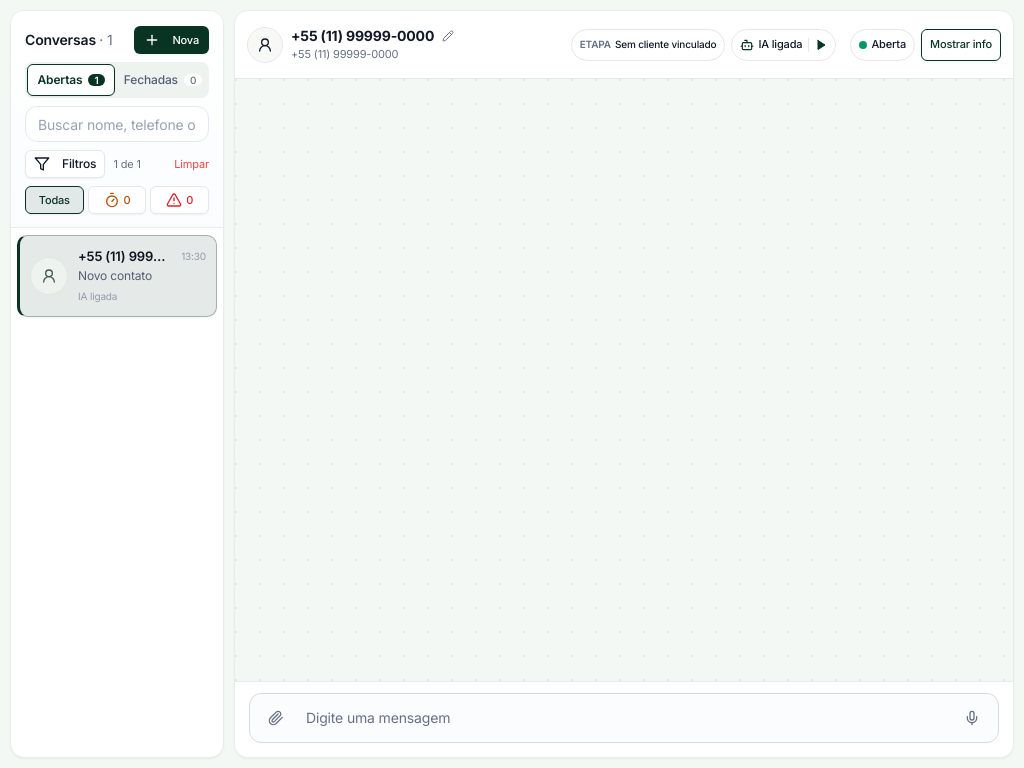
abre as três ações essenciais pelos controles do Inbox
Click the button "Nova".
click(172, 40)  # box [134,26,209,54]
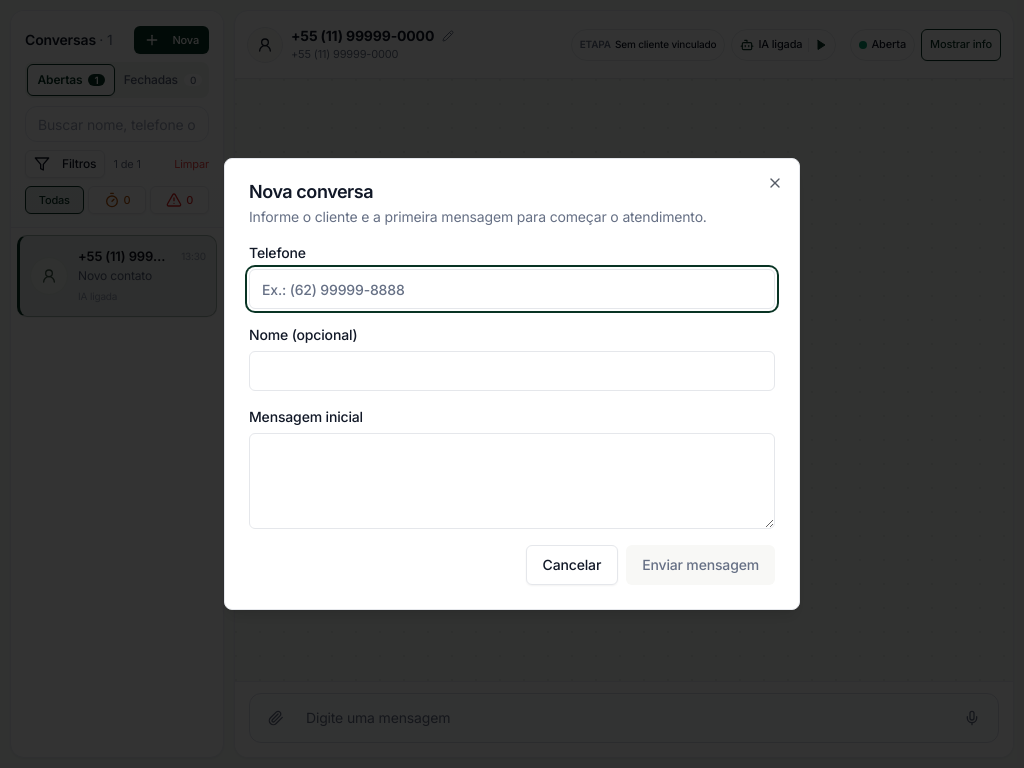
Check: the dialog "Nova conversa" is shown, box [224,158,800,610]
Click the button "Cancelar".
click(572, 565)  # box [526,545,618,585]
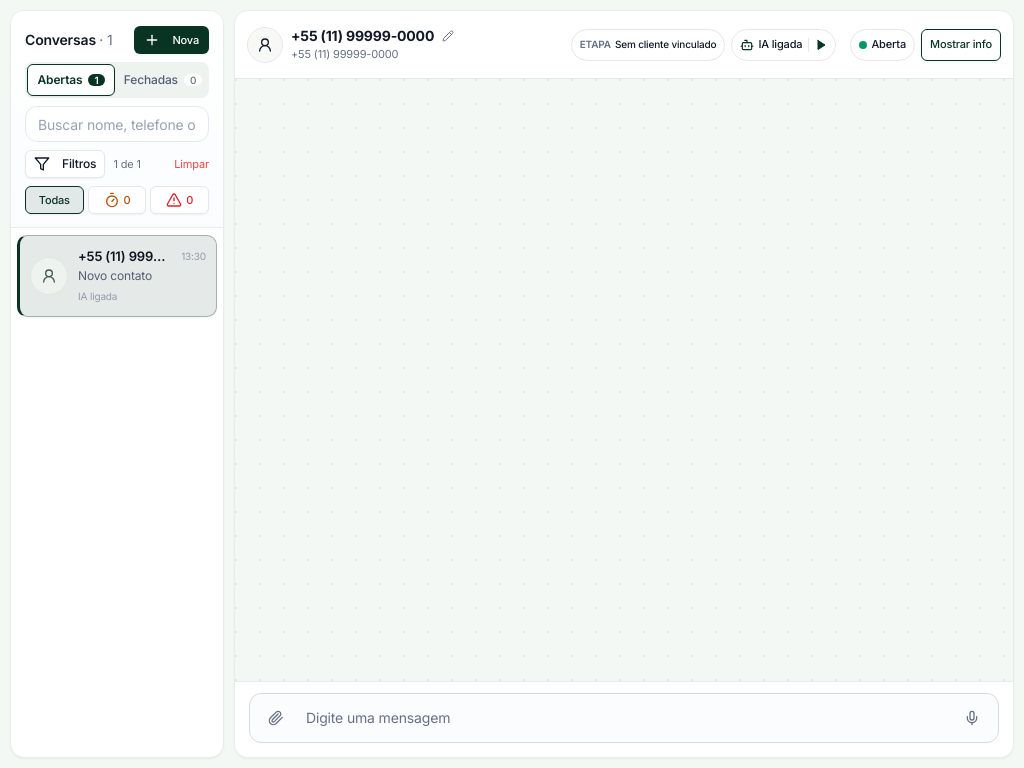
Click the button named "Editar nome".
click(448, 36)  # box [438,26,458,46]
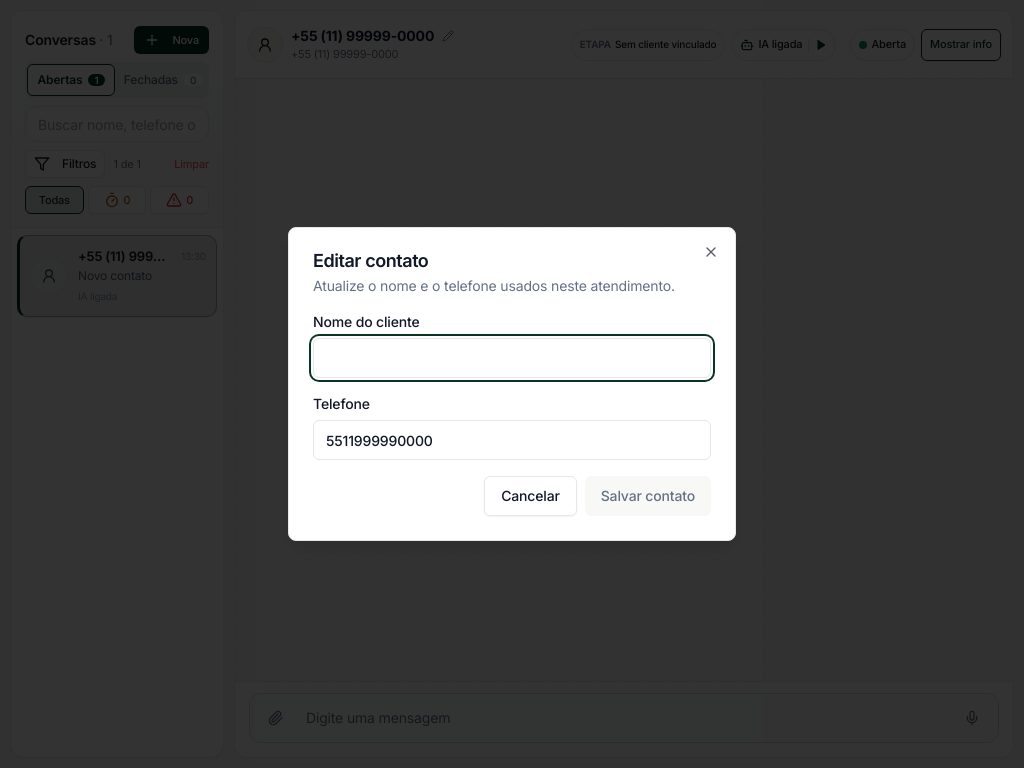
Check: the dialog "Editar contato" is shown, box [288,227,736,541]
Click the button "Cancelar".
click(530, 496)  # box [484,476,577,516]
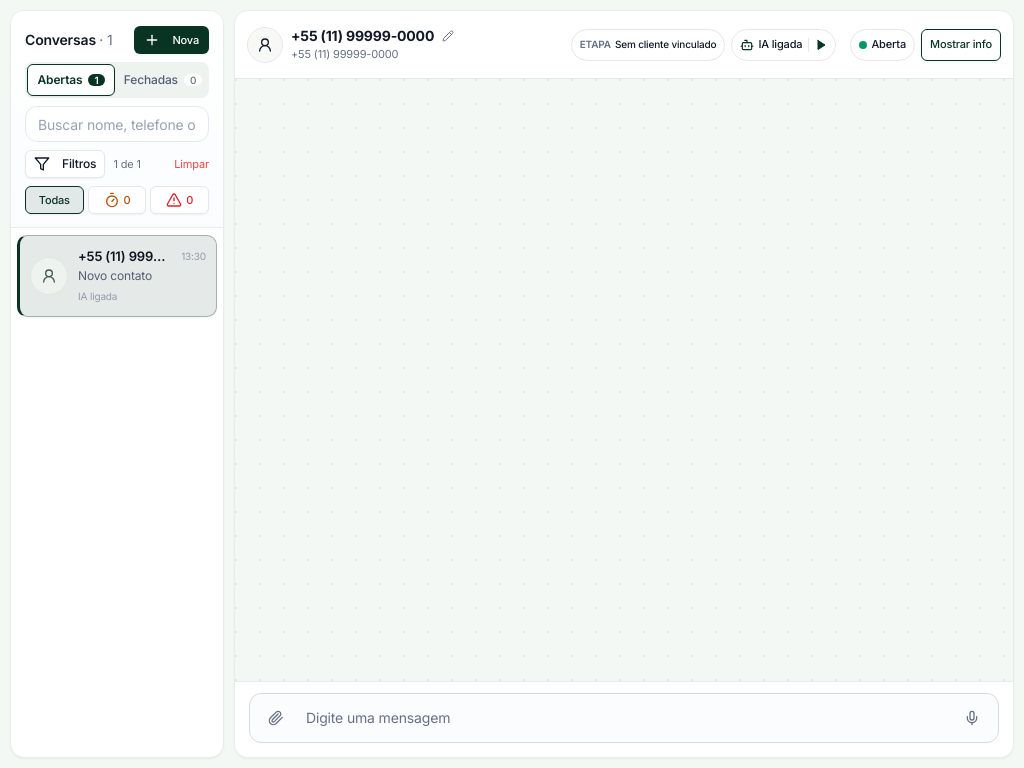
Click the button "Aberta".
click(883, 44)  # box [850,28,915,60]
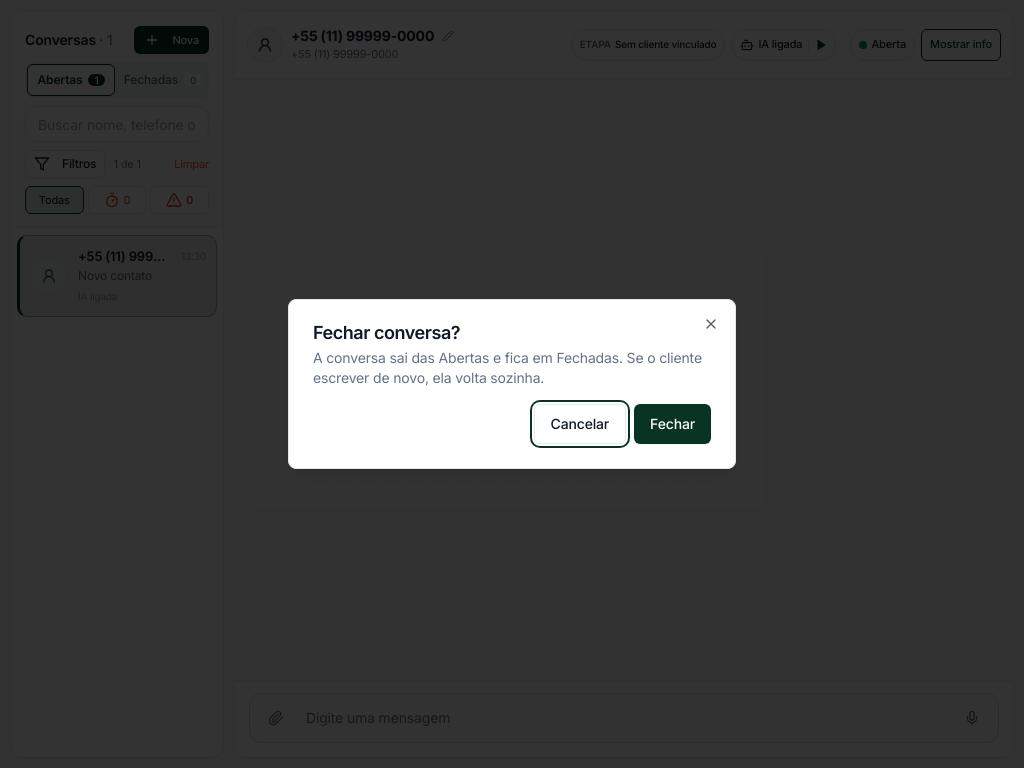
Check: the dialog "Fechar conversa?" is shown, box [288,299,736,469]
